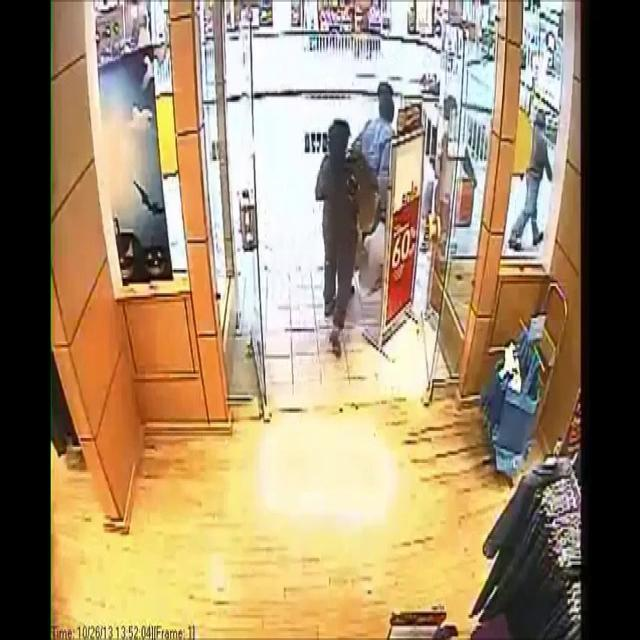normal: (304, 108, 378, 394), (372, 69, 408, 152)
